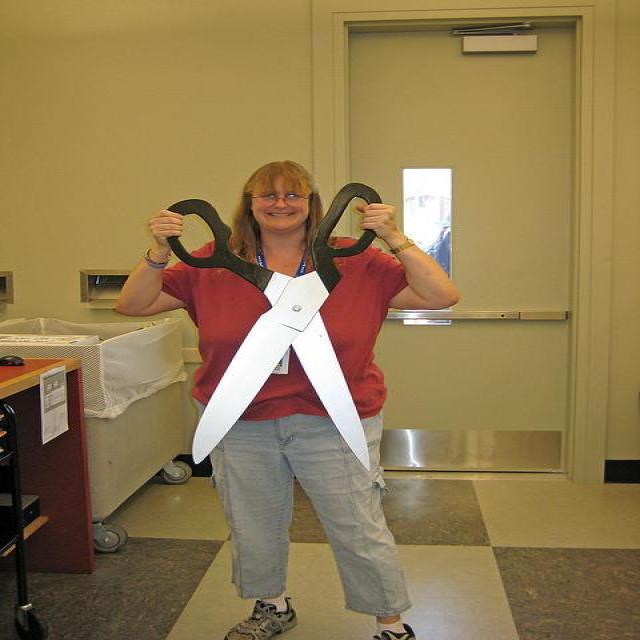obstacle: (100, 155, 463, 627)
